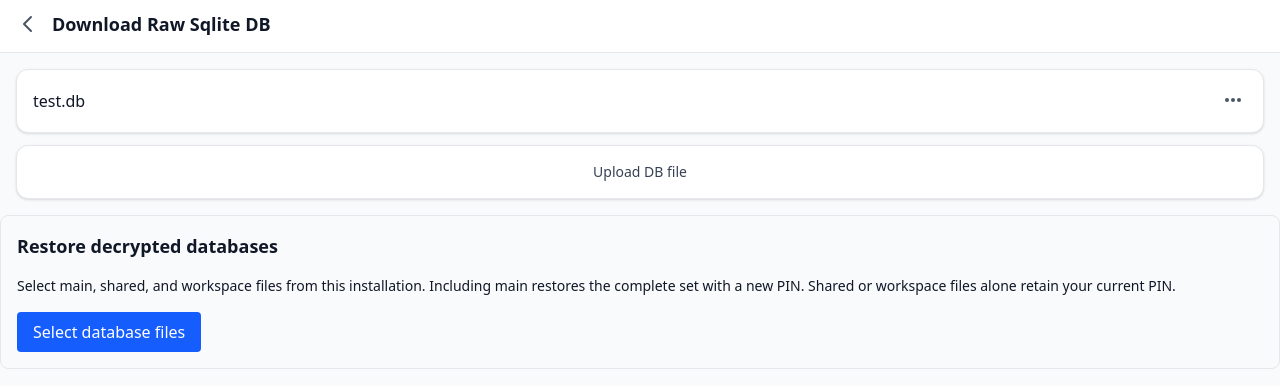
Test: DownloadPage › displays dropdown menu for each file
expect the text "test.db" is shown: met, box [33, 90, 85, 112]
Note: Click dropdown trigger
Click the button without text in the row of "test.db".
click(1233, 100)  # box [1219, 86, 1247, 114]
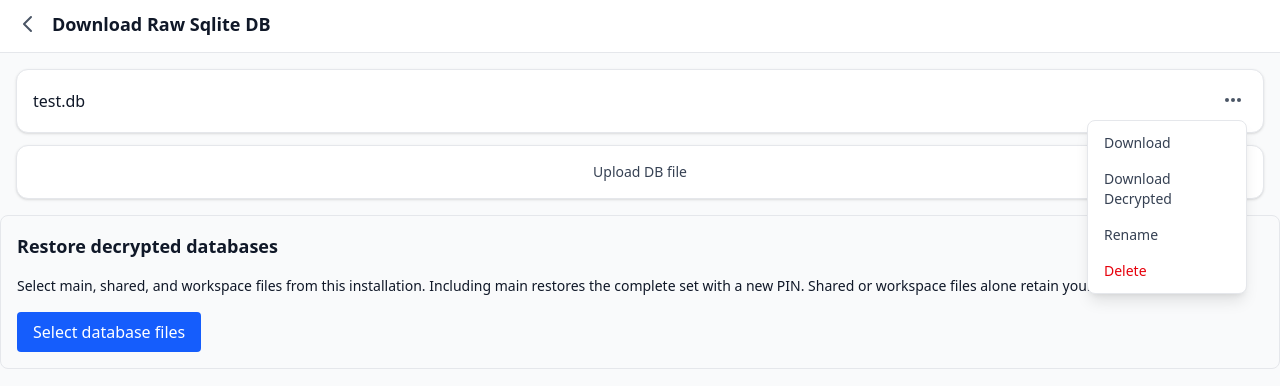
expect the menu item "Download" is shown: met, box [1088, 125, 1246, 161]
expect the menu item "Download Decrypted" is shown: met, box [1088, 161, 1246, 217]
expect the menu item "Rename" is shown: met, box [1088, 217, 1246, 253]
